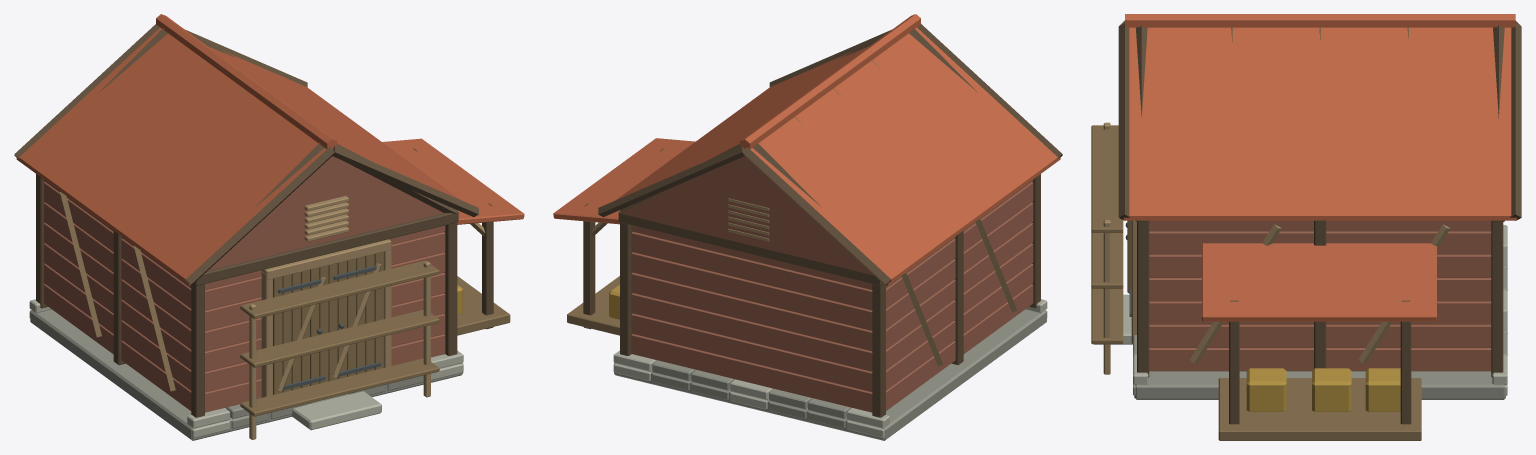
File: barn.glb
The picture shows the model from 3 angles, left to right: view 1: azimuth 30°, elevation 25°; view 2: azimuth 150°, elevation 25°; view 3: azimuth 270°, elevation 25°; orthographic projection. The views are drawn at different scales.
Parts seen in each view (by area): view 1: TimberFrame_mesh, Scaffold_mesh, RoofCourse.003_mesh, RoofCourse.004_mesh, RidgeAndFascia_mesh, RoofCourse.001_mesh, RoofCourse.005_mesh, Foundation_mesh, StorageCanopy_mesh, RoofCourse.002_mesh, RoofCourse_mesh, WallCourse.005_mesh (+11 smaller); view 2: TimberFrame_mesh, Foundation_mesh, RoofCourse.003_mesh, RoofCourse.004_mesh, RidgeAndFascia_mesh, RoofCourse.001_mesh, WallCourse_mesh, RoofCourse.005_mesh, WallCourse.002_mesh, WallCourse.004_mesh, WallCourse.003_mesh, WallCourse.001_mesh (+6 smaller); view 3: StorageCanopy_mesh, RoofCourse.004_mesh, RoofCourse.002_mesh, RoofCourse.003_mesh, RoofCourse.001_mesh, RoofCourse_mesh, RoofCourse.005_mesh, RidgeAndFascia_mesh, Scaffold_mesh, WallCourse.001_mesh, WallCourse_mesh, Foundation_mesh (+10 smaller).
Boxes of the visible parts, x1=… form: TimberFrame_mesh: x1=36, y1=28, x2=458, y2=417; Scaffold_mesh: x1=240, y1=260, x2=439, y2=439; RoofCourse.003_mesh: x1=64, y1=55, x2=410, y2=237; RoofCourse.004_mesh: x1=39, y1=68, x2=439, y2=260; RidgeAndFascia_mesh: x1=14, y1=14, x2=478, y2=285; RoofCourse.001_mesh: x1=111, y1=45, x2=367, y2=193; RoofCourse.005_mesh: x1=16, y1=79, x2=461, y2=285; Foundation_mesh: x1=29, y1=299, x2=463, y2=440; StorageCanopy_mesh: x1=382, y1=138, x2=524, y2=335; RoofCourse.002_mesh: x1=94, y1=50, x2=386, y2=215; RoofCourse_mesh: x1=135, y1=27, x2=333, y2=171; WallCourse.005_mesh: x1=44, y1=182, x2=445, y2=310; TimberFrame_mesh: x1=618, y1=28, x2=1040, y2=417; Foundation_mesh: x1=613, y1=299, x2=1047, y2=440; RoofCourse.003_mesh: x1=666, y1=55, x2=1013, y2=238; RoofCourse.004_mesh: x1=636, y1=65, x2=1037, y2=260; RidgeAndFascia_mesh: x1=598, y1=14, x2=1062, y2=285; RoofCourse.001_mesh: x1=715, y1=45, x2=965, y2=193; WallCourse_mesh: x1=631, y1=284, x2=1033, y2=412; RoofCourse.005_mesh: x1=616, y1=78, x2=1060, y2=285; WallCourse.002_mesh: x1=631, y1=243, x2=1033, y2=371; WallCourse.004_mesh: x1=631, y1=202, x2=1033, y2=330; WallCourse.003_mesh: x1=631, y1=223, x2=1033, y2=351; WallCourse.001_mesh: x1=631, y1=264, x2=1033, y2=392; StorageCanopy_mesh: x1=1202, y1=243, x2=1436, y2=440; RoofCourse.004_mesh: x1=1129, y1=149, x2=1511, y2=188; RoofCourse.002_mesh: x1=1129, y1=85, x2=1511, y2=125; RoofCourse.003_mesh: x1=1129, y1=117, x2=1511, y2=156; RoofCourse.001_mesh: x1=1129, y1=53, x2=1511, y2=93; RoofCourse_mesh: x1=1129, y1=27, x2=1511, y2=61; RoofCourse.005_mesh: x1=1123, y1=181, x2=1516, y2=220; RidgeAndFascia_mesh: x1=1118, y1=14, x2=1521, y2=220; Scaffold_mesh: x1=1091, y1=122, x2=1123, y2=374; WallCourse.001_mesh: x1=1149, y1=324, x2=1491, y2=347; WallCourse_mesh: x1=1149, y1=348, x2=1491, y2=371; Foundation_mesh: x1=1133, y1=225, x2=1507, y2=399.
Bounding box in the file's own units: 6.41 × 4.48 × 5.62.
